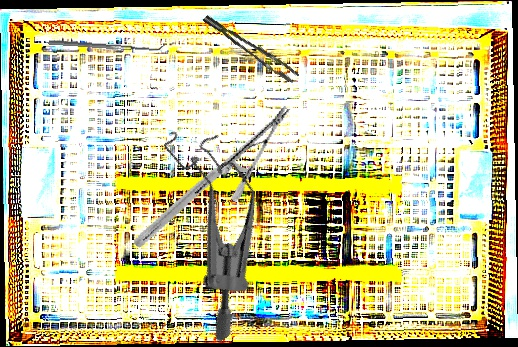Needle Holder: (132, 73, 292, 280)
Spatula Surgical: (48, 35, 165, 53)
Speculum: (103, 110, 317, 344)
Tissue Forceps: (202, 3, 300, 92)
